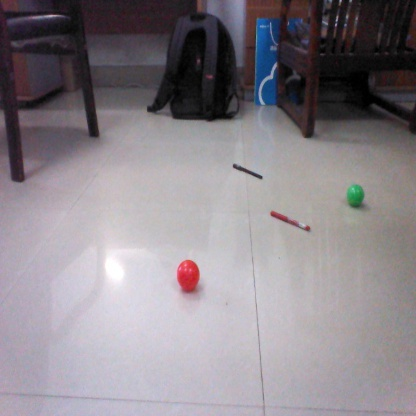ball: (177, 260, 203, 292), (346, 183, 368, 208)
pen: (268, 212, 312, 232), (232, 164, 265, 179)
